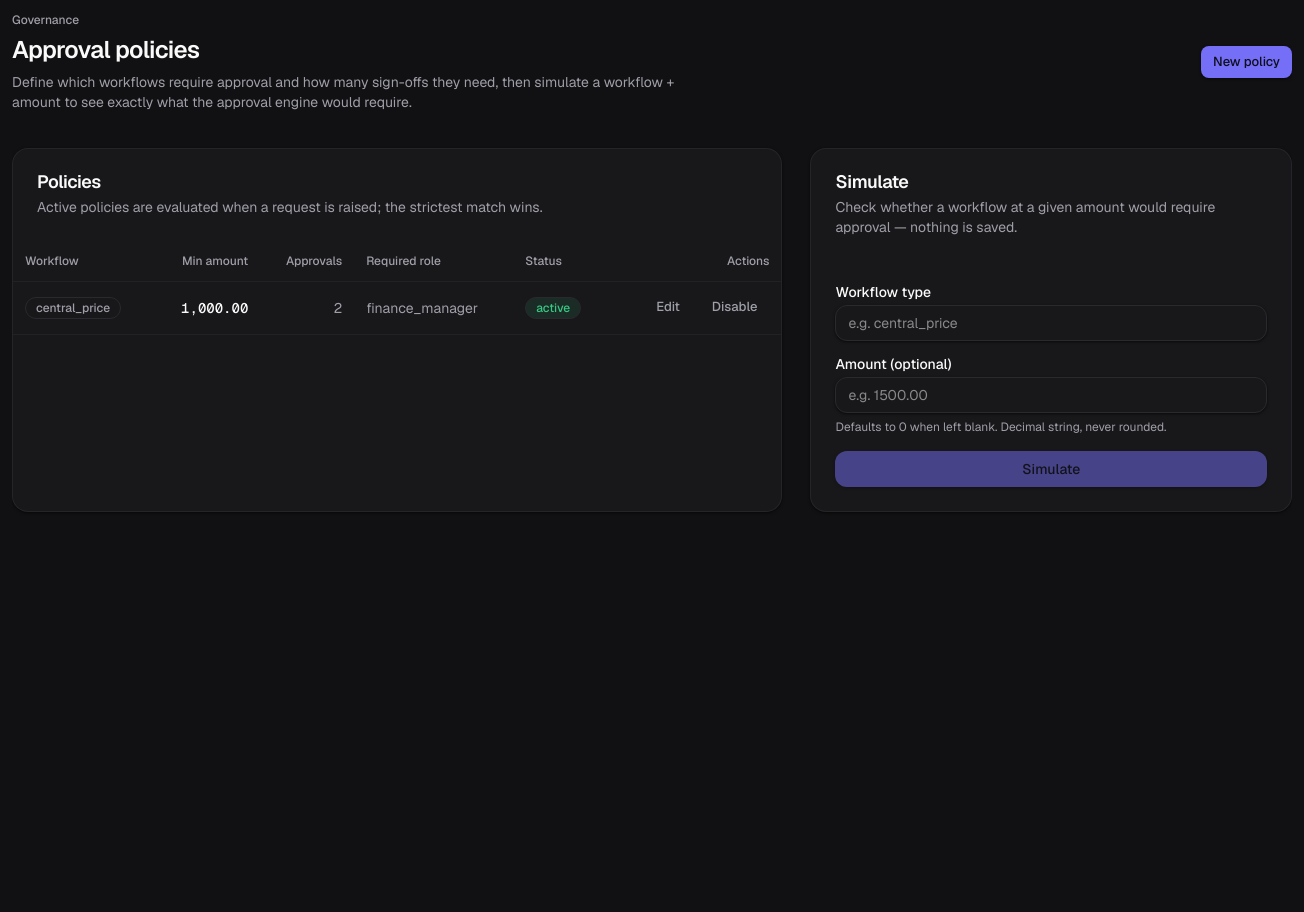
it: GovernancePoliciesPage › simulates a workflow and shows an approval-required outcome
Expected: the text "central_price" is shown, [25,296,121,318]
Step 1. Type "central_price" into the field labelled "Workflow type" → (1051,323), box [836,305,1267,341]
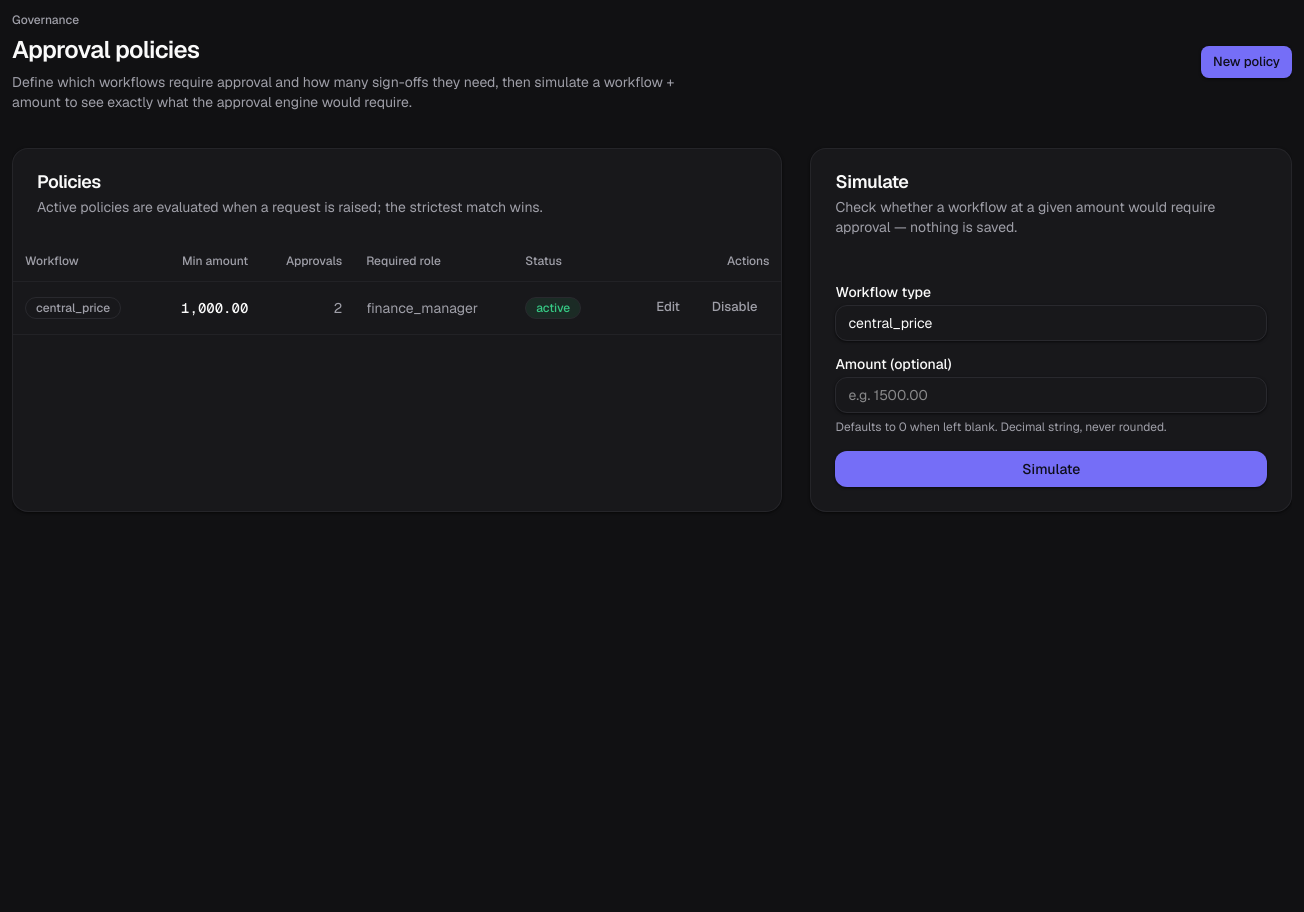
Step 2. Type "1500" into the field labelled "Amount (optional)" → (1051,395), box [836,377,1267,413]
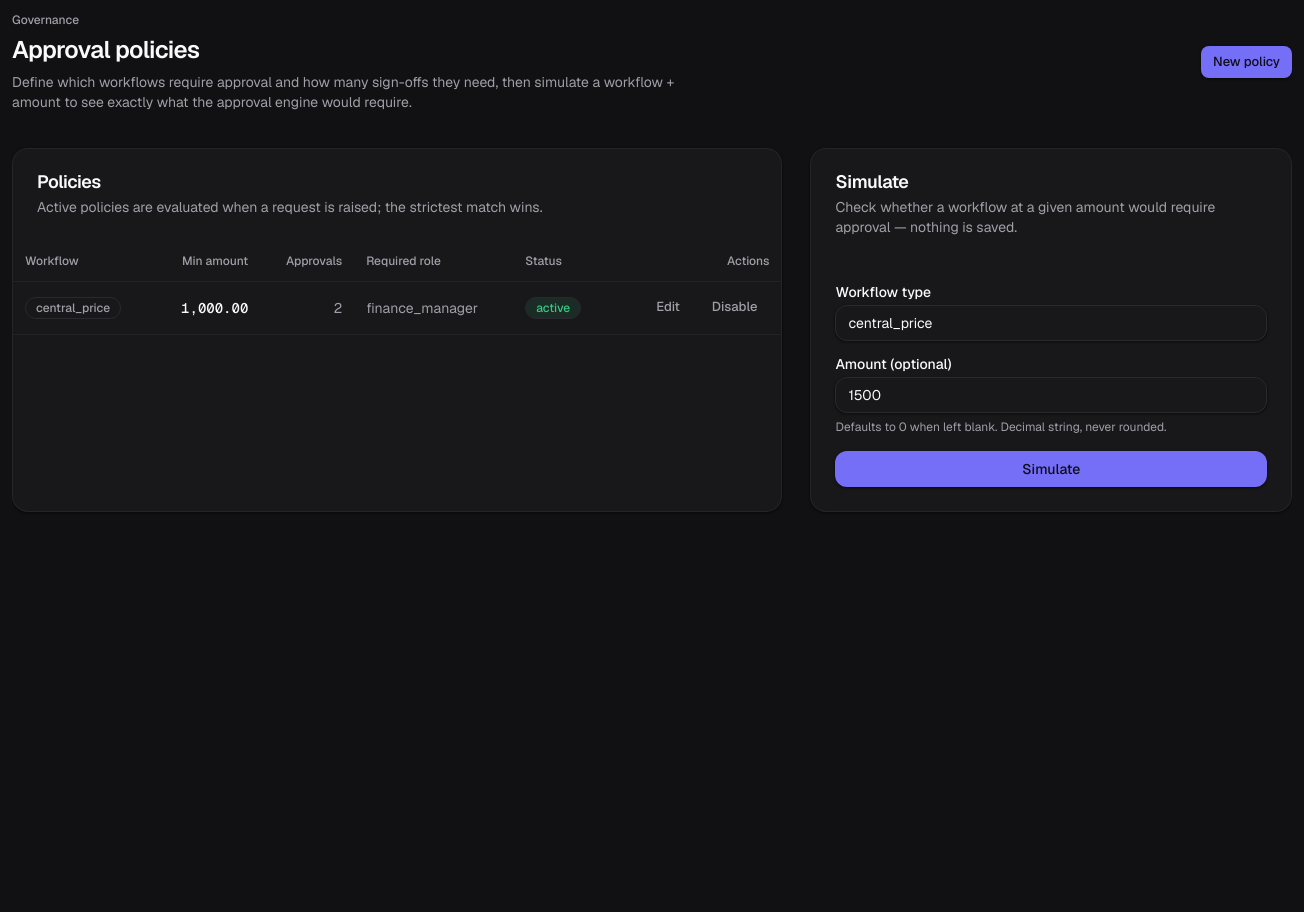
Step 3. Click the button "Simulate" → (1051,469), box [836,451,1267,487]
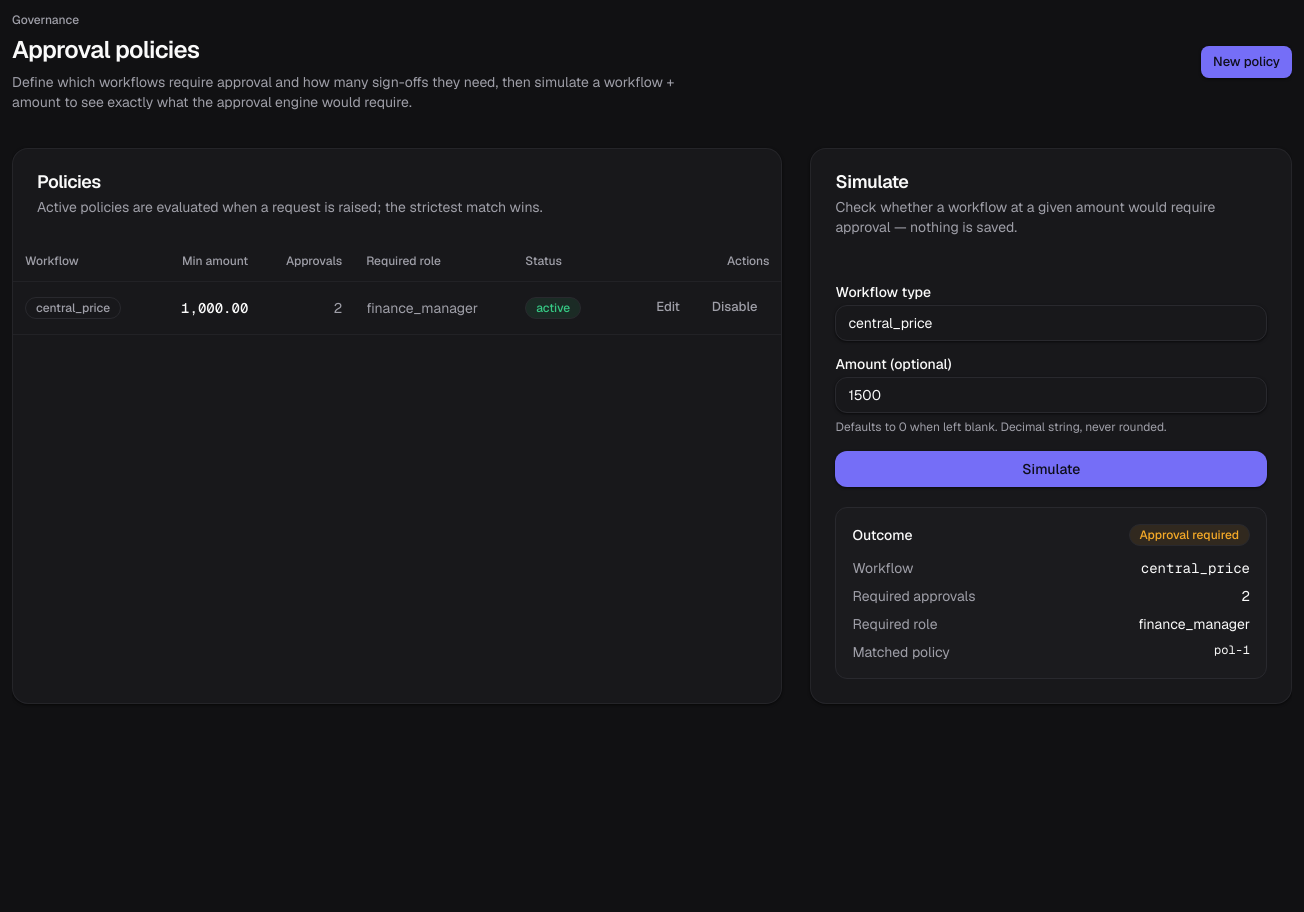
Now the text "Approval required" is shown, box [1128,524,1250,546]
